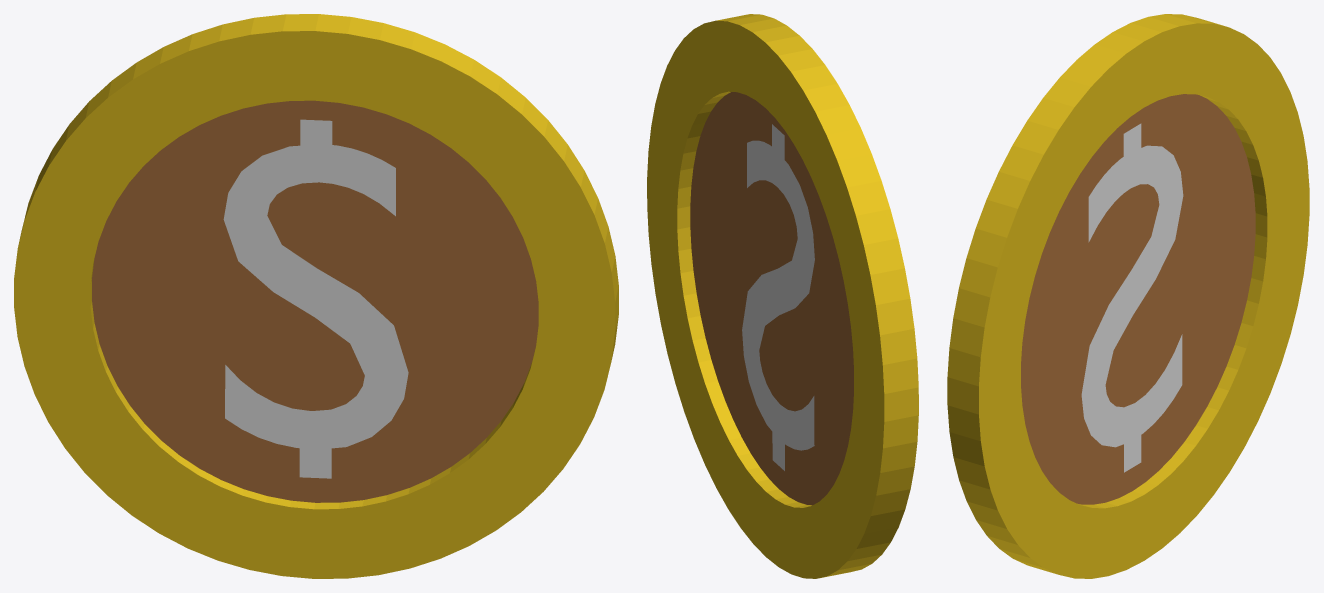
Rendered from Koin.fbx.
3 views of the same model, side by side, from view 1: azimuth 30°, elevation 25°; view 2: azimuth 150°, elevation 25°; view 3: azimuth 270°, elevation 25° (orthographic). The views are drawn at different scales.
Parts seen in each view (by area): view 1: Circle, Text, Plane.001; view 2: Circle, Text, Plane.001; view 3: Circle, Text, Plane.001.
Boxes of the visible parts, <box> form: Circle: <box>14,14,618,578</box>; Text: <box>223,145,408,448</box>; Plane.001: <box>299,119,332,478</box>; Circle: <box>647,14,918,578</box>; Text: <box>742,140,814,450</box>; Plane.001: <box>772,124,784,470</box>; Circle: <box>947,14,1309,578</box>; Text: <box>1081,145,1183,447</box>; Plane.001: <box>1123,123,1141,472</box>.
Bounding box in the file's own units: 171 × 200 × 126.
